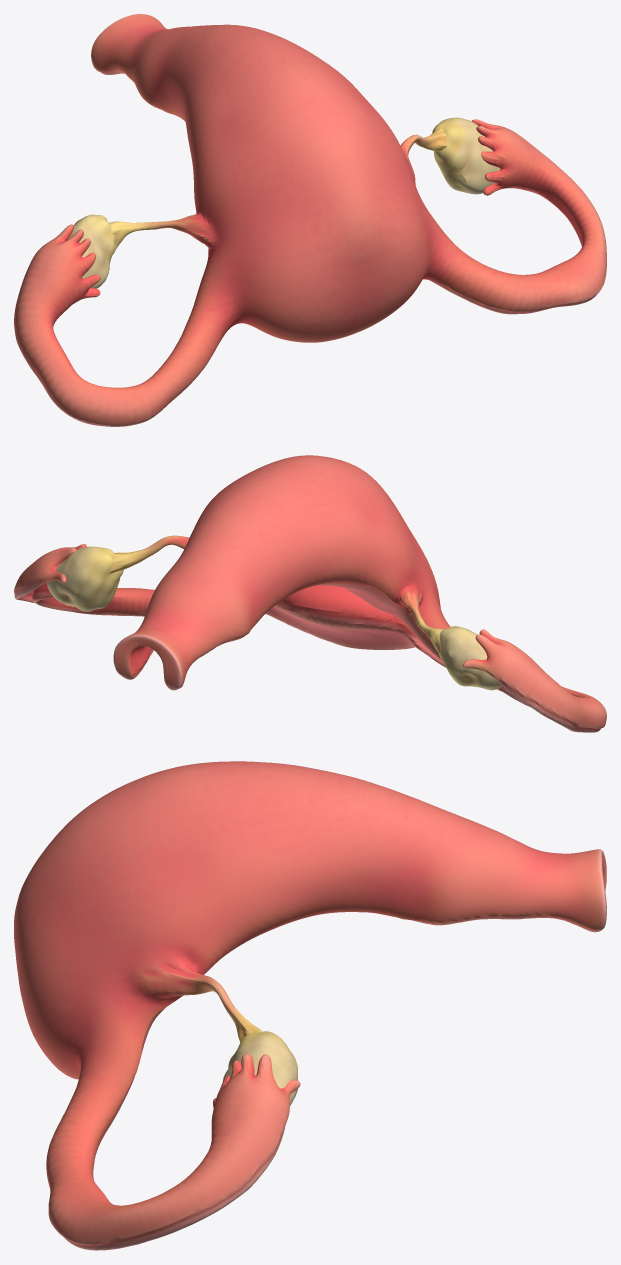
3 renders of one model, top to bottom at view 1: azimuth 30°, elevation 25°; view 2: azimuth 150°, elevation 25°; view 3: azimuth 270°, elevation 25°, orthographic. The views are drawn at different scales.
Parts seen in each view (by area): view 1: Uterus1, Vagina18, FallopianTube1_1, FallopianTube2_1, model:object_1, Cervix2, Vagina1; view 2: Uterus1, Vagina1, Cervix2, Vagina18, model:object_1, FallopianTube2_1, FallopianTube1_1, Cervix1; view 3: Uterus1, Cervix2, Vagina18, Vagina1, FallopianTube2_1, model:object_1, Cervix1.
Part boxes in pixels (x1=…): Uterus1: x1=187, y1=42, x2=437, y2=342; Vagina18: x1=14, y1=119, x2=580, y2=376; FallopianTube1_1: x1=16, y1=292, x2=199, y2=426; FallopianTube2_1: x1=468, y1=186, x2=606, y2=314; model:object_1: x1=68, y1=117, x2=500, y2=288; Cervix2: x1=151, y1=24, x2=292, y2=123; Vagina1: x1=91, y1=14, x2=213, y2=107; Uterus1: x1=209, y1=455, x2=440, y2=654; Vagina1: x1=113, y1=541, x2=253, y2=690; Cervix2: x1=180, y1=482, x2=331, y2=630; Vagina18: x1=14, y1=535, x2=569, y2=725; model:object_1: x1=47, y1=546, x2=501, y2=690; FallopianTube2_1: x1=21, y1=588, x2=154, y2=616; FallopianTube1_1: x1=497, y1=682, x2=606, y2=732; Cervix1: x1=206, y1=477, x2=339, y2=584; Uterus1: x1=14, y1=761, x2=293, y2=1079; Cervix2: x1=278, y1=763, x2=442, y2=925; Vagina18: x1=63, y1=968, x2=300, y2=1216; Vagina1: x1=414, y1=798, x2=606, y2=932; FallopianTube2_1: x1=46, y1=1095, x2=207, y2=1250; model:object_1: x1=222, y1=1031, x2=298, y2=1105; Cervix1: x1=268, y1=762, x2=300, y2=921.
Size of the model in its own units: 409 by 179 by 293.
